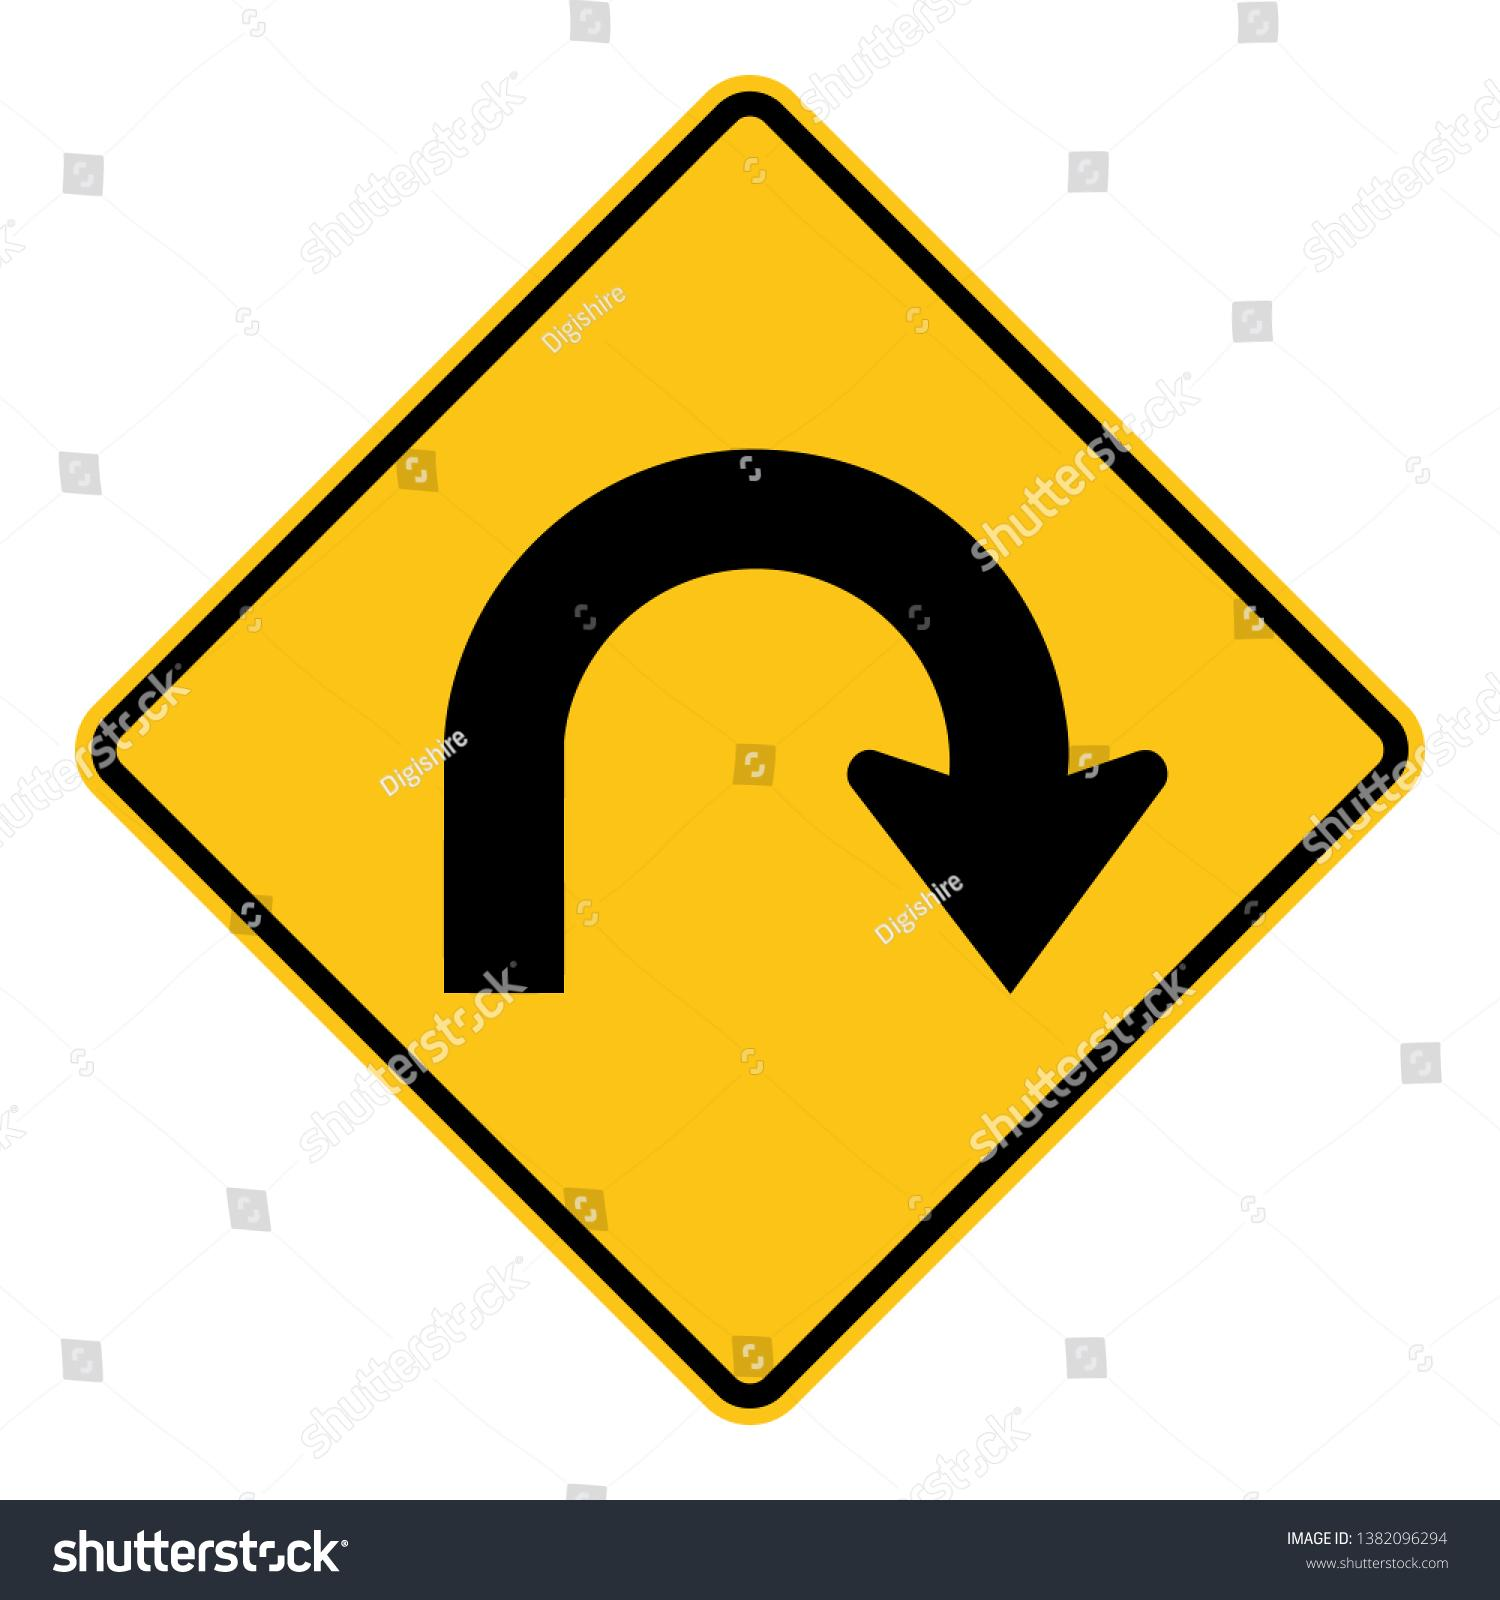Right Hair Pin Bend: (278, 237, 1284, 1194)
